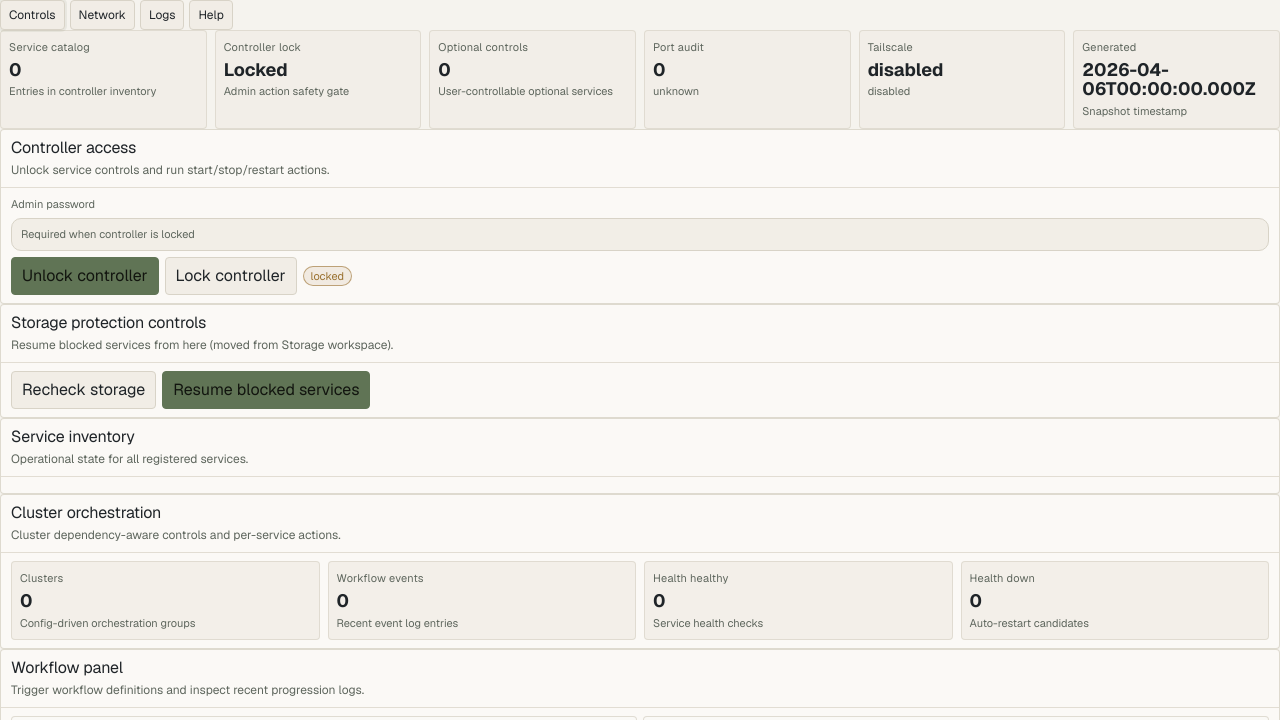
Test case: WorkspaceViewport › shows settings help and logs tabs
Click the tab "Logs" at coordinates (162, 15), box [140,0,184,30]
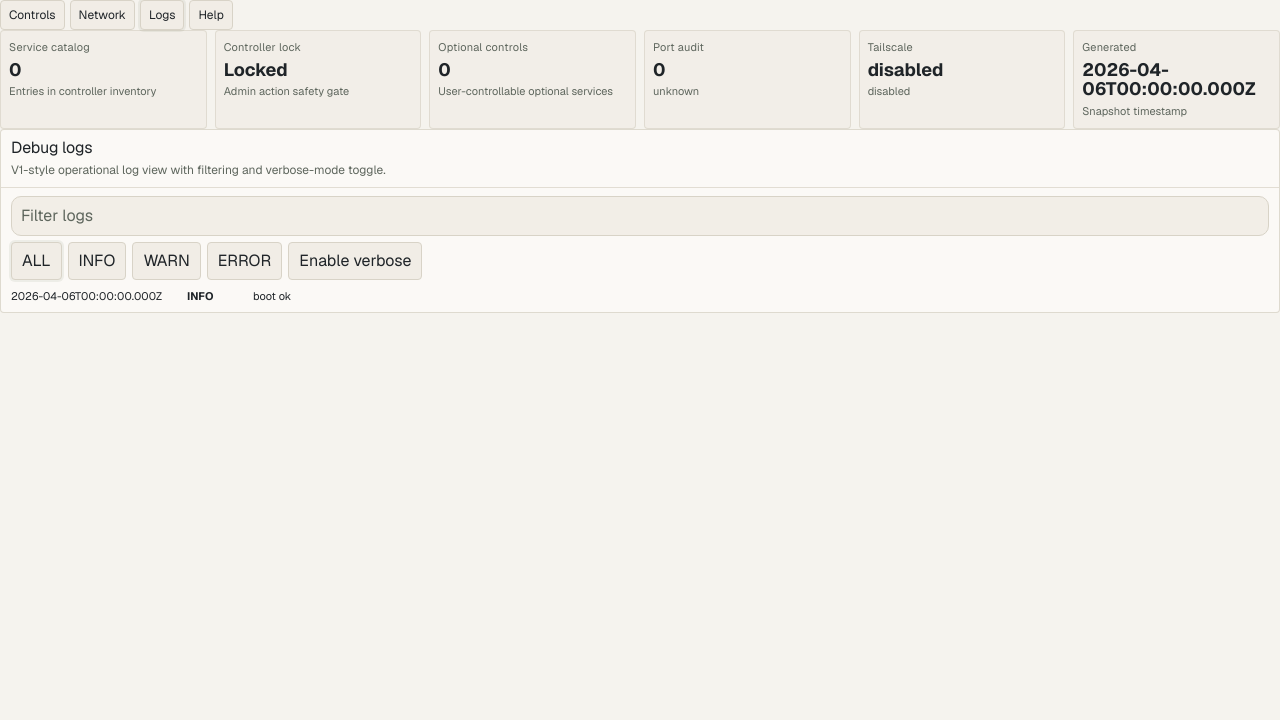
Result: the heading "Debug logs" is shown at [11,137,92,158]
Click the tab "Help" at coordinates (211, 15), box [189,0,233,30]
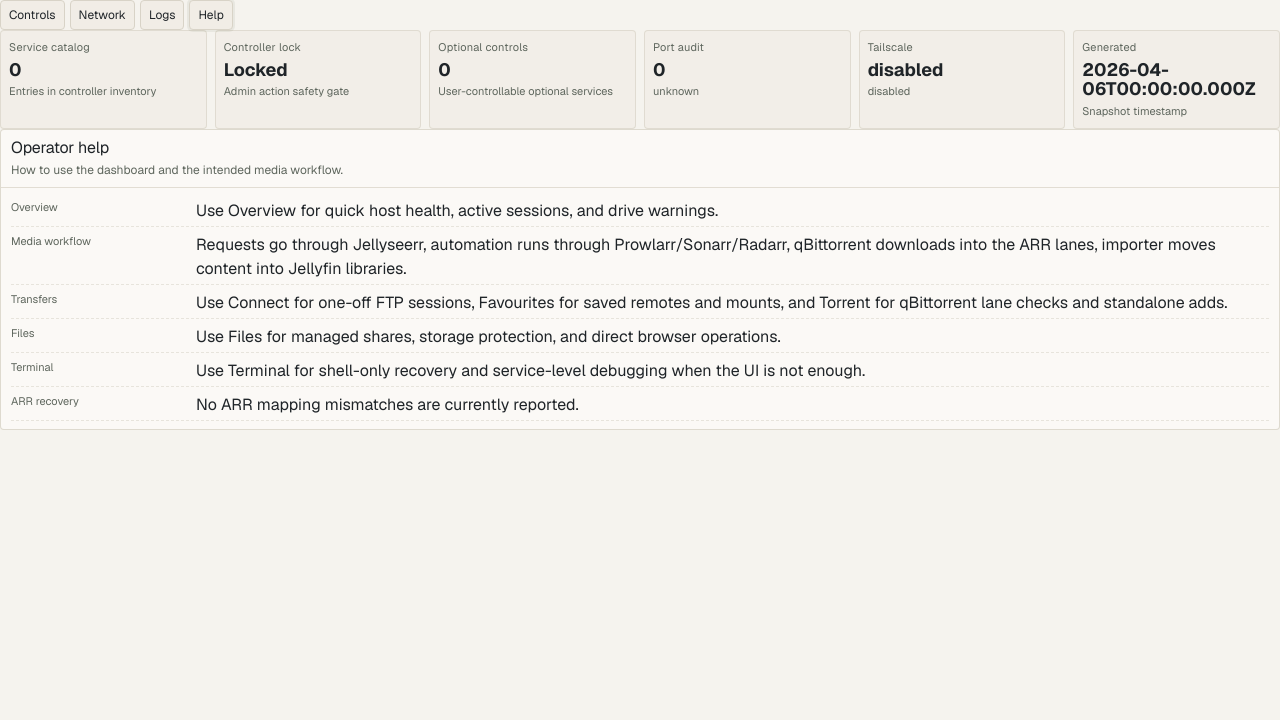
Result: the heading "Operator help" is shown at [11,137,109,158]
Result: the text "Requests go through Jellyseerr" is shown at [196,234,1216,279]
